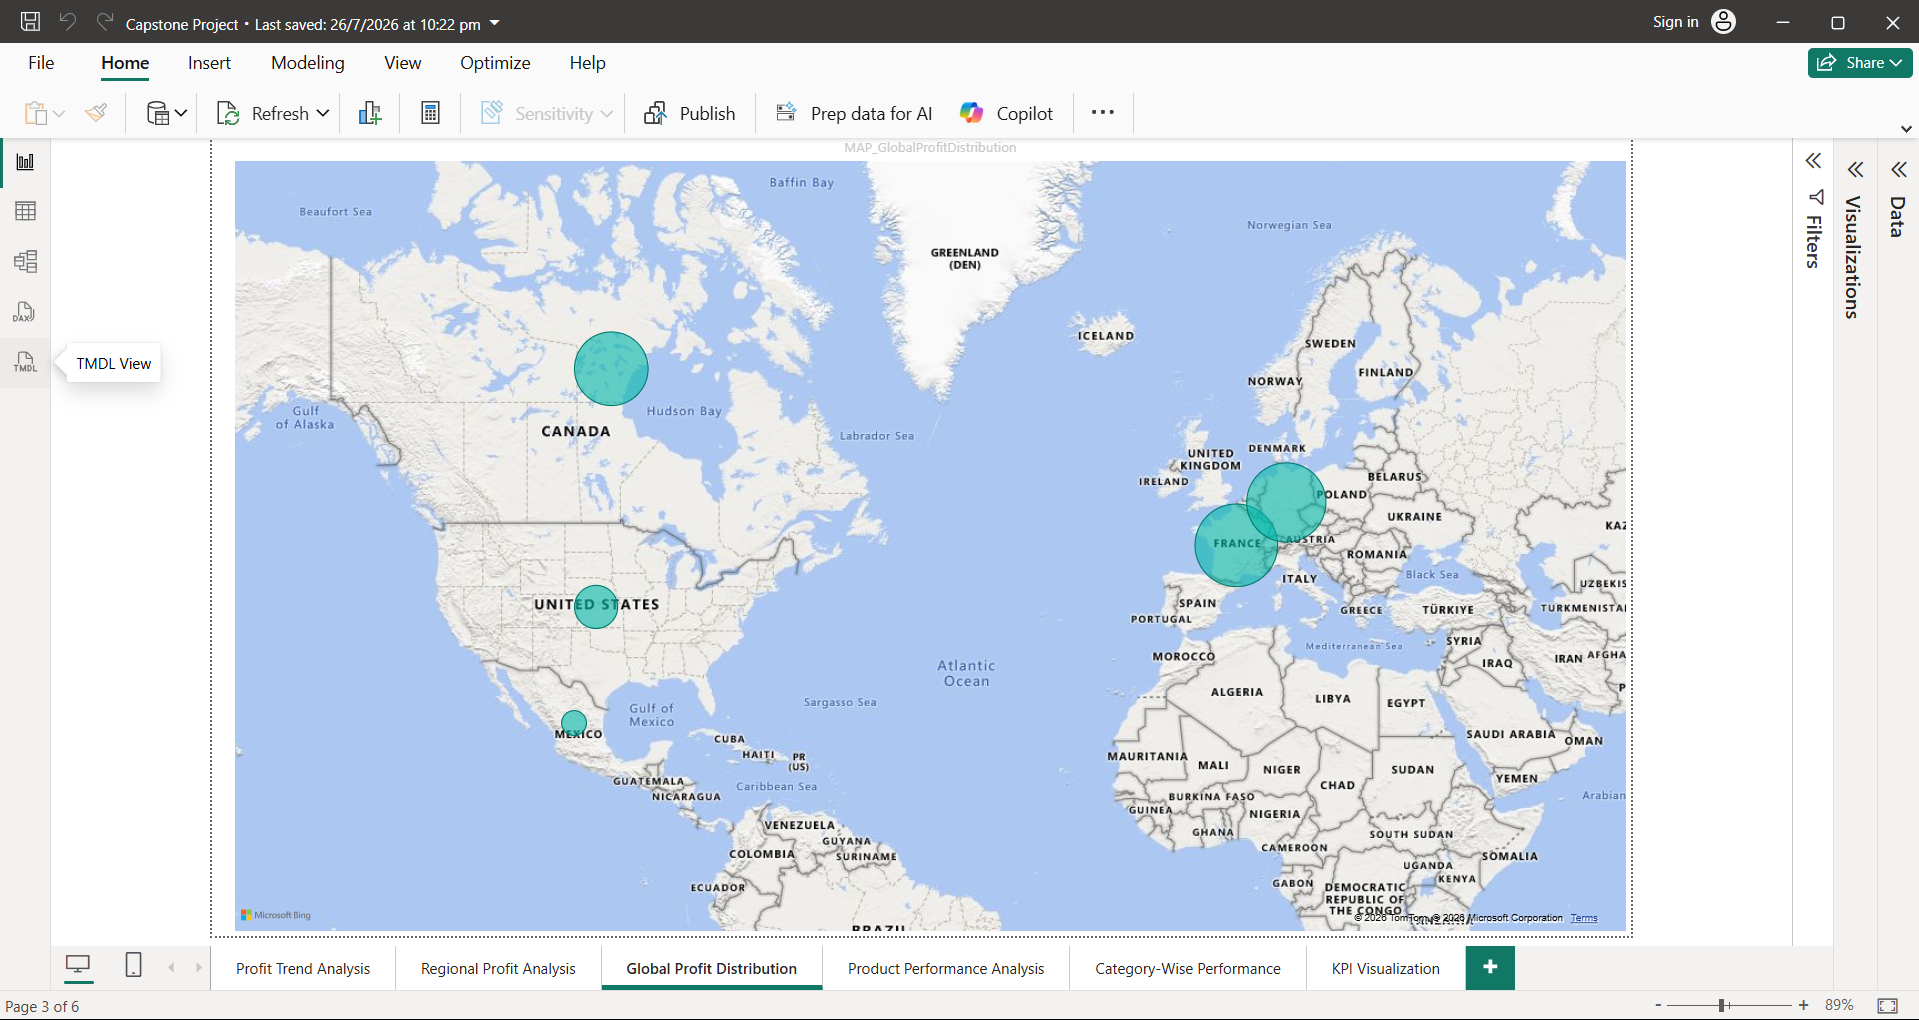

The page's visual inventory and layout, read from the dashboard file:
{"tool":"powerbi","page":{"name":"Global Profit Distribution","canvas":[1280,720],"ordinal":2},"visuals":[{"type":"map","title":"MAP_GlobalProfitDistribution","fields":{"Category":["Table_1.Country"],"Size":["_Measures.Total Profit"]},"box":[16,0,1264,720],"z":0}]}

Visuals, with their boxes on the page's 1280x720 design canvas (x1, y1, x2, y2). These are canvas units, not pixel positions in the 1919x1020 screenshot, which may show the page scaled, cropped or inside an application window:
"MAP_GlobalProfitDistribution" map: Rect(16, 0, 1280, 720)
